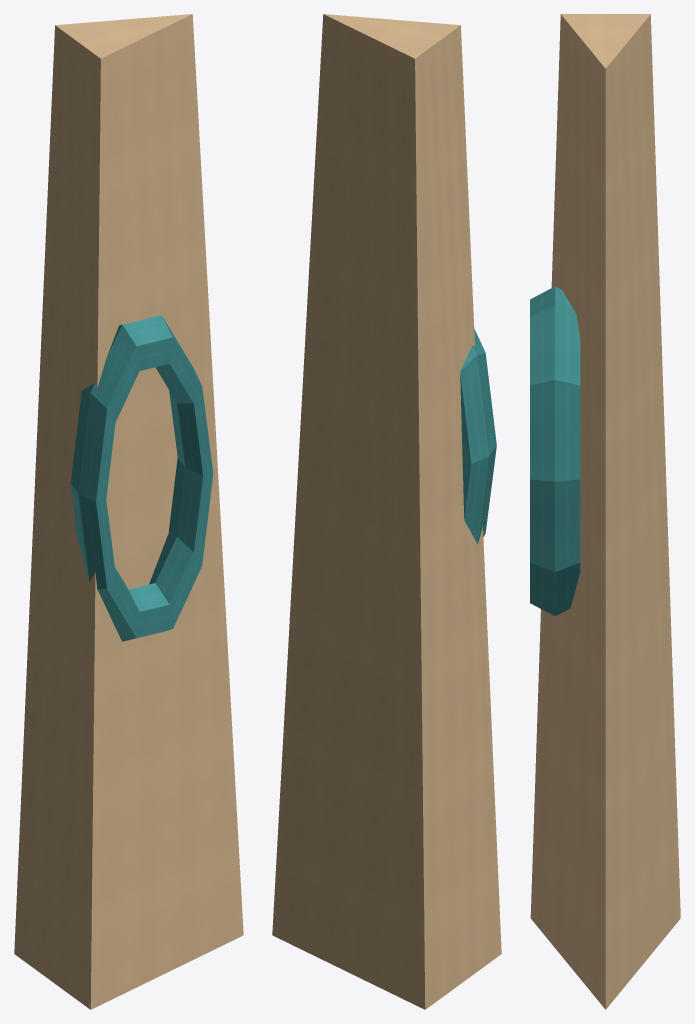
File: atlas100-s095-a05.lod1.glb
3 views of the same model, side by side, from view 1: azimuth 30°, elevation 25°; view 2: azimuth 150°, elevation 25°; view 3: azimuth 270°, elevation 25° (orthographic).
Parts seen in each view (by area): view 1: atlas100-s095-a05:part-000, atlas100-s095-a05:part-001; view 2: atlas100-s095-a05:part-000, atlas100-s095-a05:part-001; view 3: atlas100-s095-a05:part-000, atlas100-s095-a05:part-001.
Part boxes in pixels (x1,y1,x2,y2): atlas100-s095-a05:part-000: (14,14,243,1009); atlas100-s095-a05:part-001: (70,315,213,641); atlas100-s095-a05:part-000: (272,14,501,1009); atlas100-s095-a05:part-001: (460,329,496,544); atlas100-s095-a05:part-000: (530,14,680,1009); atlas100-s095-a05:part-001: (530,286,580,616).
Size of the model in its own units: 0.1638 by 0.7644 by 0.1139.
2 materials, 2 textured.
